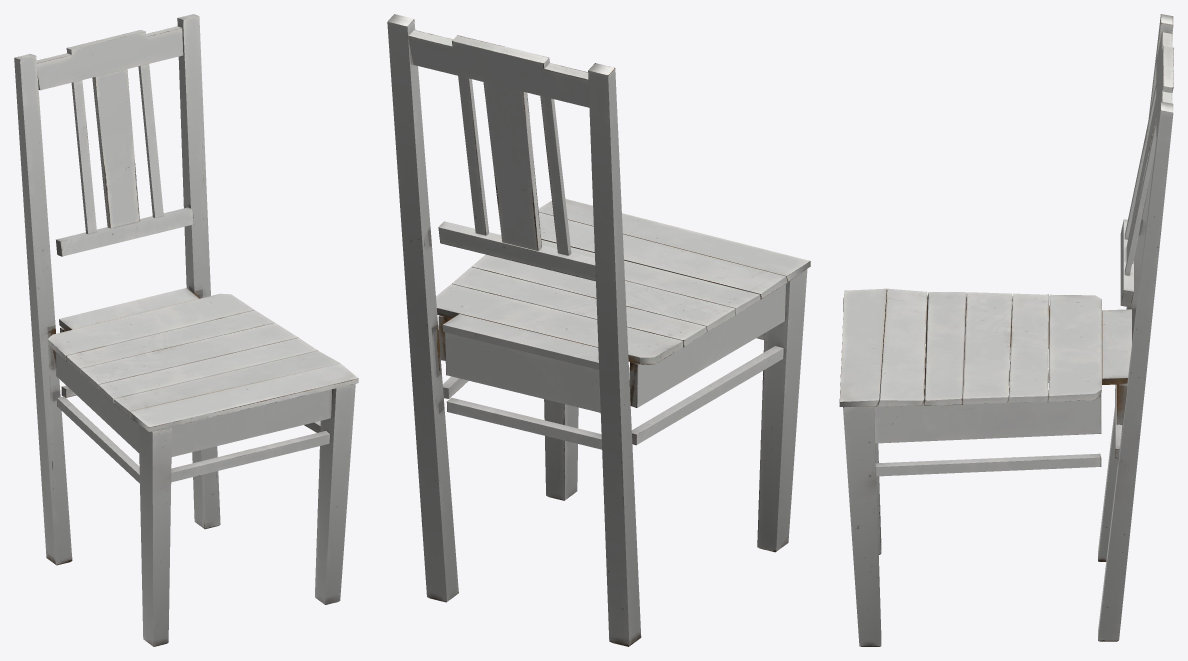
The model's file is chair-lod.glb.
The picture shows the model from 3 angles, left to right: view 1: azimuth 30°, elevation 25°; view 2: azimuth 150°, elevation 25°; view 3: azimuth 270°, elevation 25°; orthographic projection. The views are drawn at different scales.
Parts seen in each view (by area): view 1: painted_wooden_chair_01; view 2: painted_wooden_chair_01; view 3: painted_wooden_chair_01.
Boxes of the visible parts, x1,y1,x2,y2 form: painted_wooden_chair_01: [14, 14, 358, 646]; painted_wooden_chair_01: [387, 14, 810, 646]; painted_wooden_chair_01: [839, 14, 1173, 646].
Bounding box in the file's own units: 0.4238 × 0.9487 × 0.5358.
Materials: 1 (1 with a texture image).
